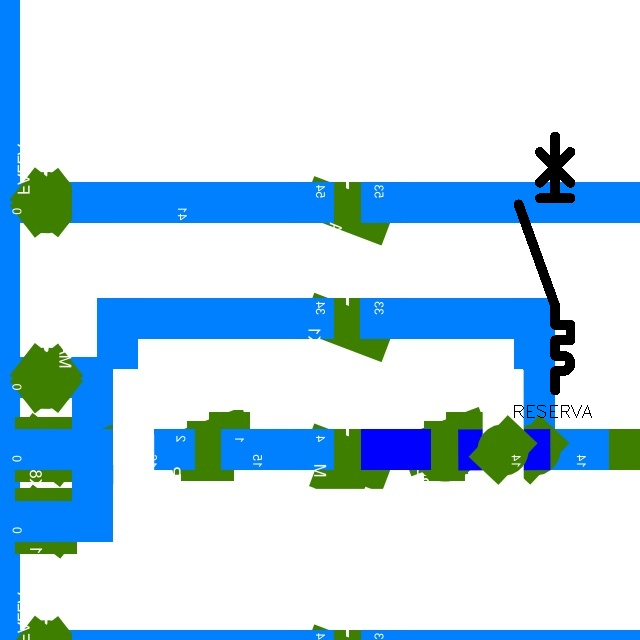interruptor_termomagnetico: (512, 130, 577, 397)
